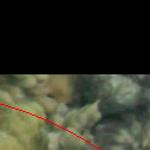alive: (3, 76, 147, 149)
